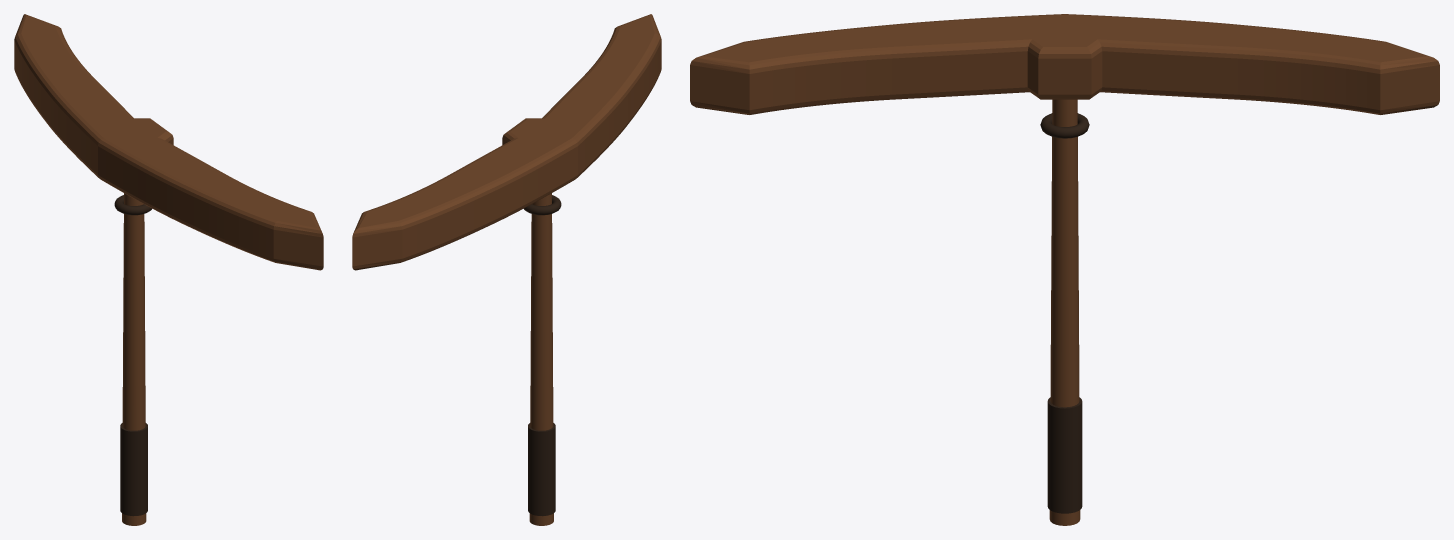
Rendered from wood_pickaxe.glb.
The picture shows the model from 3 angles, left to right: view 1: azimuth 30°, elevation 25°; view 2: azimuth 150°, elevation 25°; view 3: azimuth 270°, elevation 25°; orthographic projection. The views are drawn at different scales.
Parts seen in each view (by area): view 1: head, handle, gripWrap, binding0; view 2: head, handle, gripWrap, binding0; view 3: head, handle, gripWrap.
Boxes of the visible parts, x1,y1,x2,y2 form: head: [14, 14, 323, 270]; handle: [122, 193, 146, 525]; gripWrap: [120, 423, 147, 516]; binding0: [114, 195, 151, 215]; head: [352, 14, 661, 270]; handle: [529, 193, 553, 525]; gripWrap: [528, 423, 555, 516]; binding0: [524, 195, 561, 215]; head: [690, 14, 1439, 114]; handle: [1049, 99, 1080, 525]; gripWrap: [1047, 397, 1082, 513].
Bounding box in the file's own units: 0.1798 × 0.7395 × 1.03.
